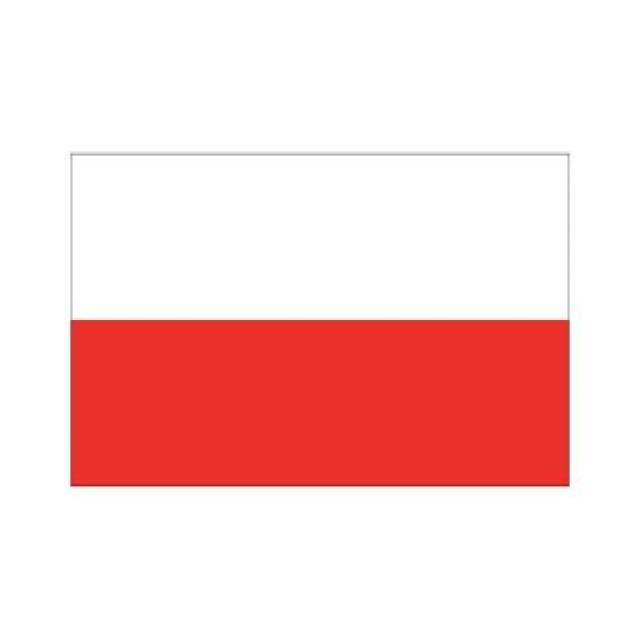poland: (74, 149, 576, 493)
